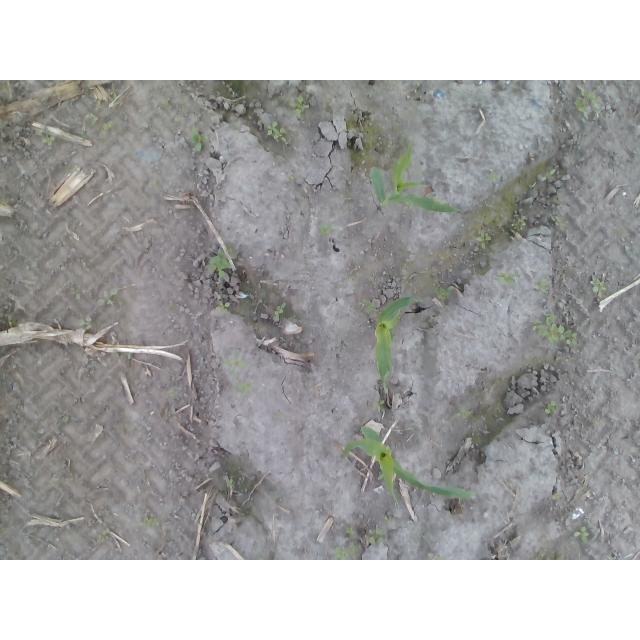Maize: (340, 426, 476, 509), (370, 144, 466, 217), (373, 296, 418, 387)
Weeds: (527, 312, 577, 347), (206, 245, 234, 280), (335, 526, 360, 560), (574, 86, 600, 113), (191, 126, 210, 151), (222, 351, 247, 369), (266, 120, 286, 141), (97, 288, 119, 307), (293, 96, 307, 121), (574, 527, 591, 546), (368, 527, 385, 545), (38, 129, 55, 146), (274, 302, 287, 323), (476, 232, 492, 249), (433, 284, 450, 300), (589, 279, 607, 294), (495, 271, 513, 286), (143, 512, 159, 528), (240, 382, 255, 398), (319, 222, 333, 239), (486, 169, 503, 183), (510, 218, 527, 232), (544, 399, 557, 417), (214, 301, 231, 314), (79, 317, 94, 330), (455, 407, 473, 417), (535, 278, 551, 289), (97, 531, 110, 543), (373, 398, 386, 410), (439, 252, 450, 266), (71, 288, 83, 300), (7, 314, 17, 327), (367, 303, 378, 314), (225, 479, 236, 489), (364, 90, 376, 99), (552, 216, 561, 225), (551, 492, 561, 500), (432, 554, 445, 560), (111, 89, 118, 100), (103, 123, 113, 130), (288, 174, 295, 183)
